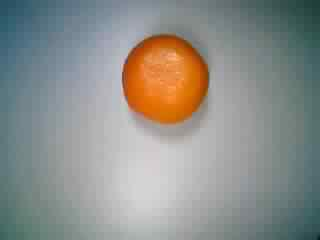orange: (116, 32, 211, 126)
